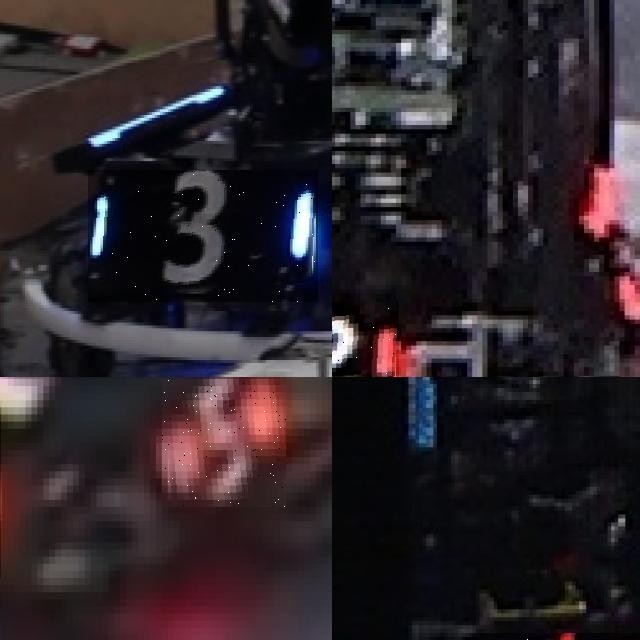B3: (89, 170, 318, 302)
R2: (332, 302, 398, 377)
R5: (162, 379, 286, 507)
